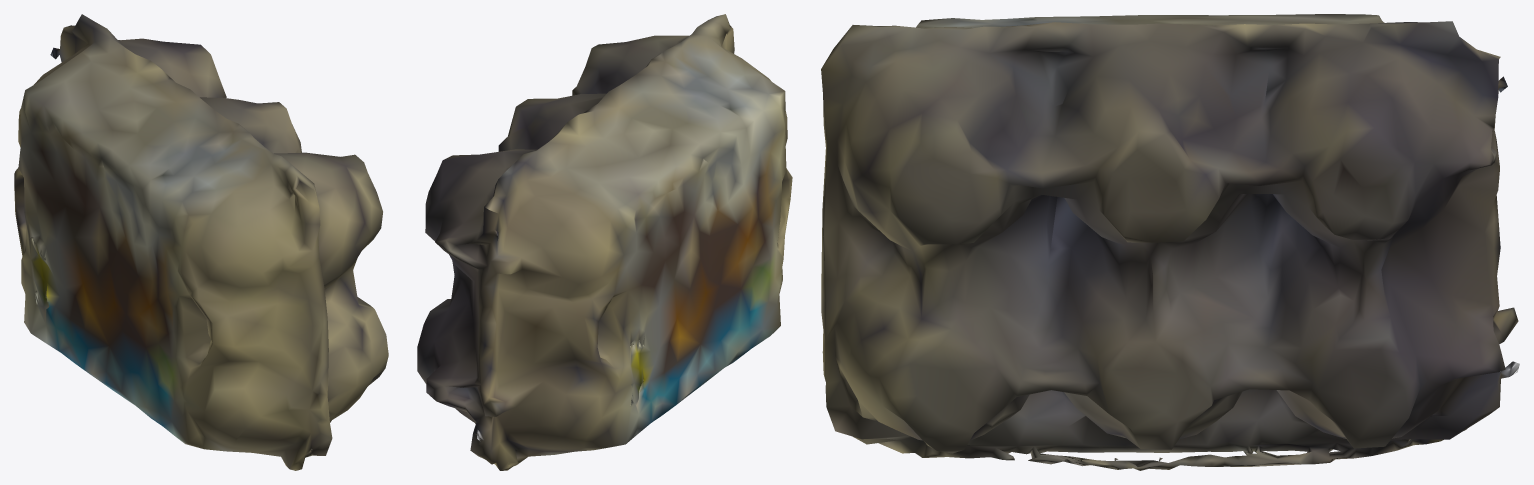
Rendered from textured_simple.obj.
3 views of the same model, side by side, from view 1: azimuth 30°, elevation 25°; view 2: azimuth 150°, elevation 25°; view 3: azimuth 270°, elevation 25° (orthographic). The views are drawn at different scales.
Bounding box in the file's own units: 7.24 × 10.84 × 15.9.
